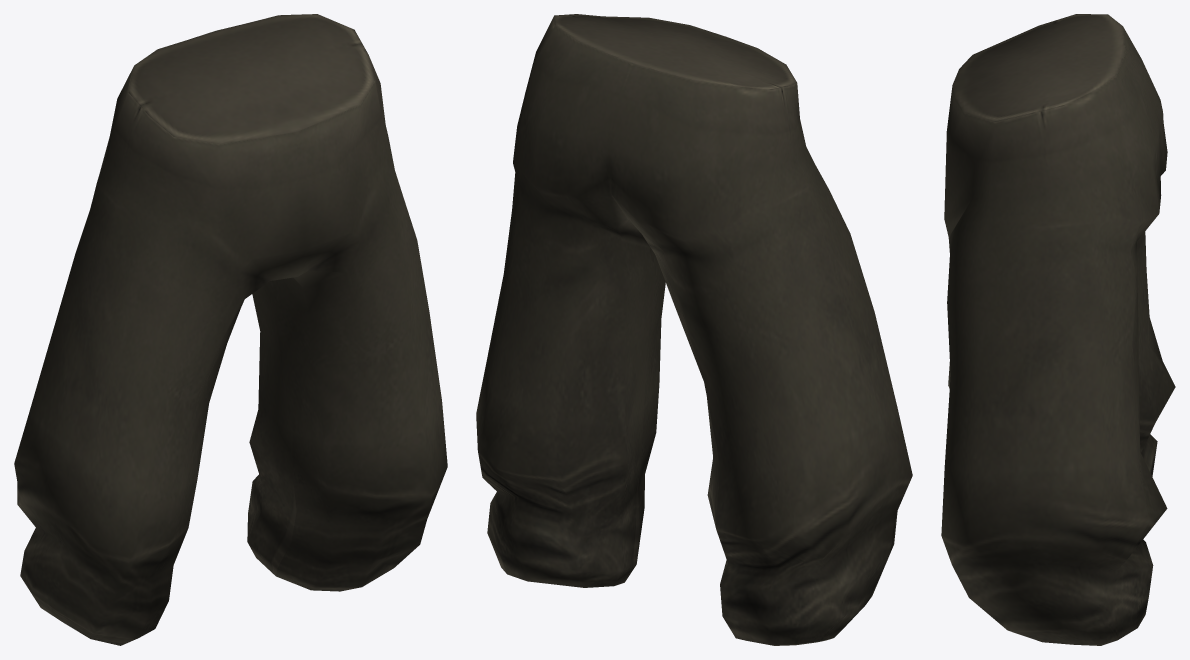
File: male_pants2.glb
The picture shows the model from 3 angles, left to right: view 1: azimuth 30°, elevation 25°; view 2: azimuth 150°, elevation 25°; view 3: azimuth 270°, elevation 25°; orthographic projection. The views are drawn at different scales.
Parts seen in each view (by area): view 1: node_id124; view 2: node_id124; view 3: node_id124.
Boxes of the visible parts, x1,y1,x2,y2 form: node_id124: [14, 14, 447, 645]; node_id124: [476, 14, 912, 645]; node_id124: [941, 14, 1175, 645].
Bounding box in the file's own units: 0.3591 × 0.512 × 0.1969.
1 material, 1 textured.
